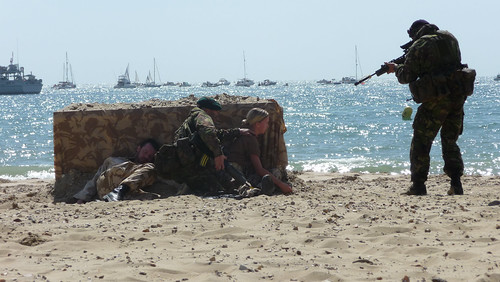boat: (1, 62, 45, 94), (49, 54, 77, 92)
sea: (1, 94, 495, 175)
sky: (18, 1, 500, 74)
soldier: (374, 17, 474, 209), (166, 93, 234, 206), (76, 138, 161, 206), (232, 109, 288, 197)
weapon: (349, 46, 394, 86)
